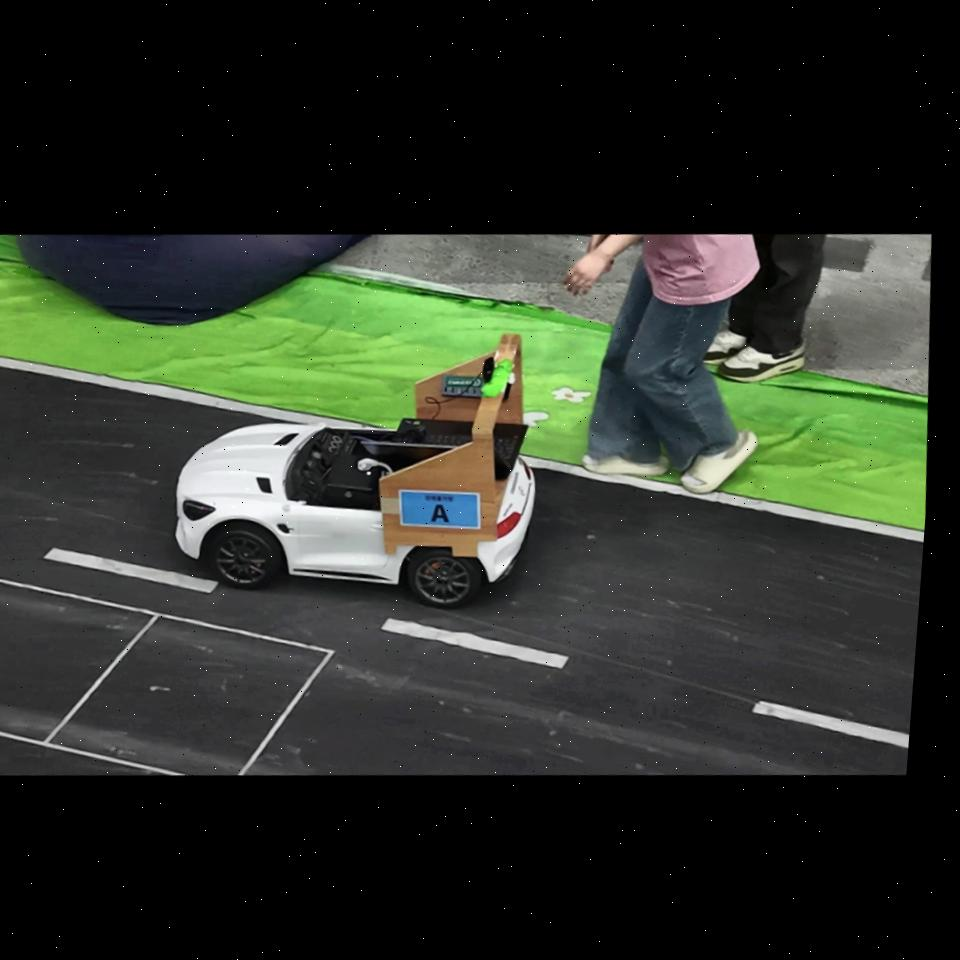broken_line: (380, 618, 569, 669), (43, 548, 218, 593), (751, 701, 909, 749)
